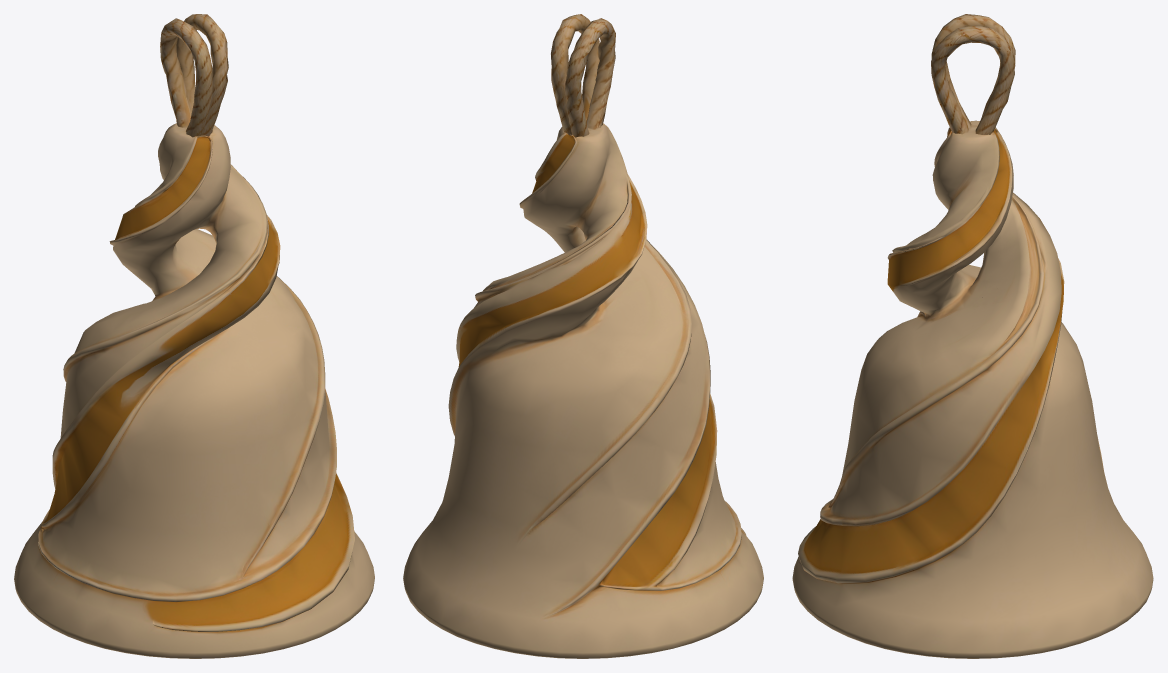
The model's file is aroma-bell.glb.
The picture shows the model from 3 angles, left to right: view 1: azimuth 30°, elevation 25°; view 2: azimuth 150°, elevation 25°; view 3: azimuth 270°, elevation 25°; orthographic projection.
Parts seen in each view (by area): view 1: tripo_node_aee9af5d-bdc2-4cbf-a818-d2324a5b8b2f; view 2: tripo_node_aee9af5d-bdc2-4cbf-a818-d2324a5b8b2f; view 3: tripo_node_aee9af5d-bdc2-4cbf-a818-d2324a5b8b2f.
Part boxes in pixels (left/top/right/bottom): tripo_node_aee9af5d-bdc2-4cbf-a818-d2324a5b8b2f: left=14, top=14, right=374, bottom=658; tripo_node_aee9af5d-bdc2-4cbf-a818-d2324a5b8b2f: left=403, top=14, right=763, bottom=658; tripo_node_aee9af5d-bdc2-4cbf-a818-d2324a5b8b2f: left=792, top=14, right=1153, bottom=658.
Bounding box in the file's own units: 0.5796 × 0.9995 × 0.5806.
Materials: 1 (1 with a texture image).
